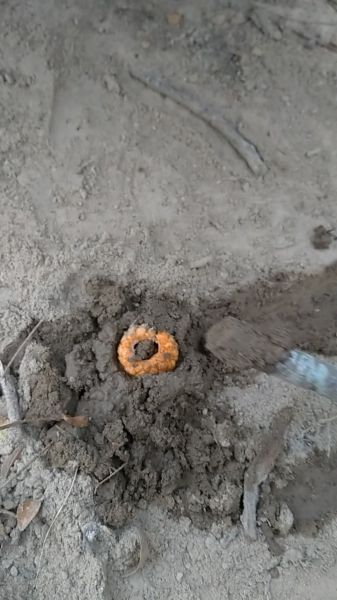eggs: (110, 318, 183, 381)
